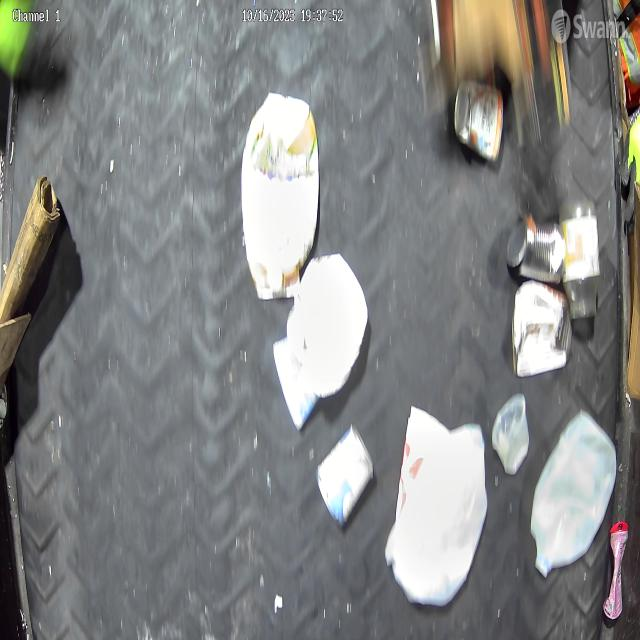can: (314, 421, 376, 528), (511, 280, 572, 381), (504, 213, 566, 288), (453, 77, 506, 164)
milk_jug: (383, 421, 490, 611), (529, 408, 618, 580)
non_white_jug: (240, 90, 322, 300)
